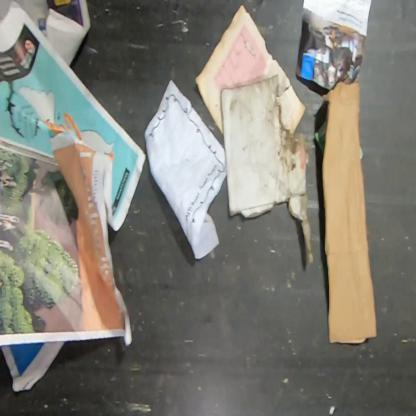cardboard: (220, 74, 316, 266), (320, 80, 377, 344)
